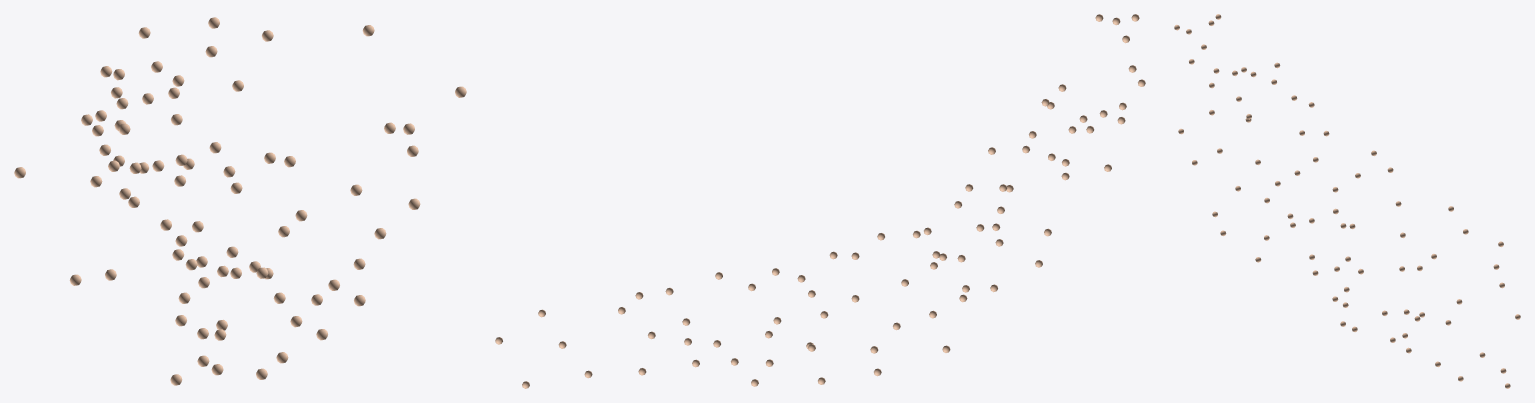
Rendered from Ribosomes_Mitochondria.fbx.
3 renders of one model, left to right at view 1: azimuth 30°, elevation 25°; view 2: azimuth 150°, elevation 25°; view 3: azimuth 270°, elevation 25°, orthographic. The views are drawn at different scales.
Parts seen in each view (by area): view 1: Ribosomes_Mitochondria; view 2: Ribosomes_Mitochondria; view 3: Ribosomes_Mitochondria.
Boxes of the visible parts, x1,y1,x2,y2 form: Ribosomes_Mitochondria: (14,17,466,385); Ribosomes_Mitochondria: (495,14,1145,388); Ribosomes_Mitochondria: (1174,14,1520,388).
Size of the model in its own units: 243 by 168 by 214.
